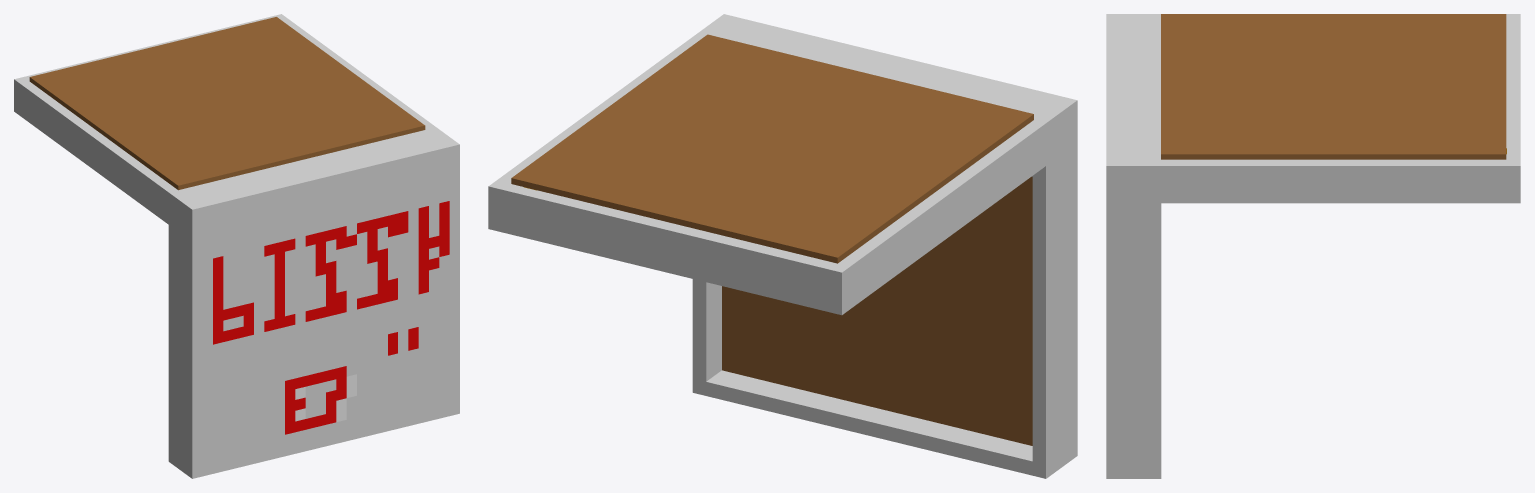
Rendered from pizza.fbx.
The picture shows the model from 3 angles, left to right: view 1: azimuth 30°, elevation 25°; view 2: azimuth 150°, elevation 25°; view 3: azimuth 270°, elevation 25°; orthographic projection. The views are drawn at different scales.
Parts seen in each view (by area): view 1: pizza; view 2: pizza; view 3: pizza.
Boxes of the visible parts, x1=… form: pizza: x1=14, y1=14, x2=459, y2=478; pizza: x1=488, y1=14, x2=1077, y2=478; pizza: x1=1106, y1=14, x2=1520, y2=478.
Bounding box in the file's own units: 2.6 × 2.54 × 3.
2 materials, 2 textured.
